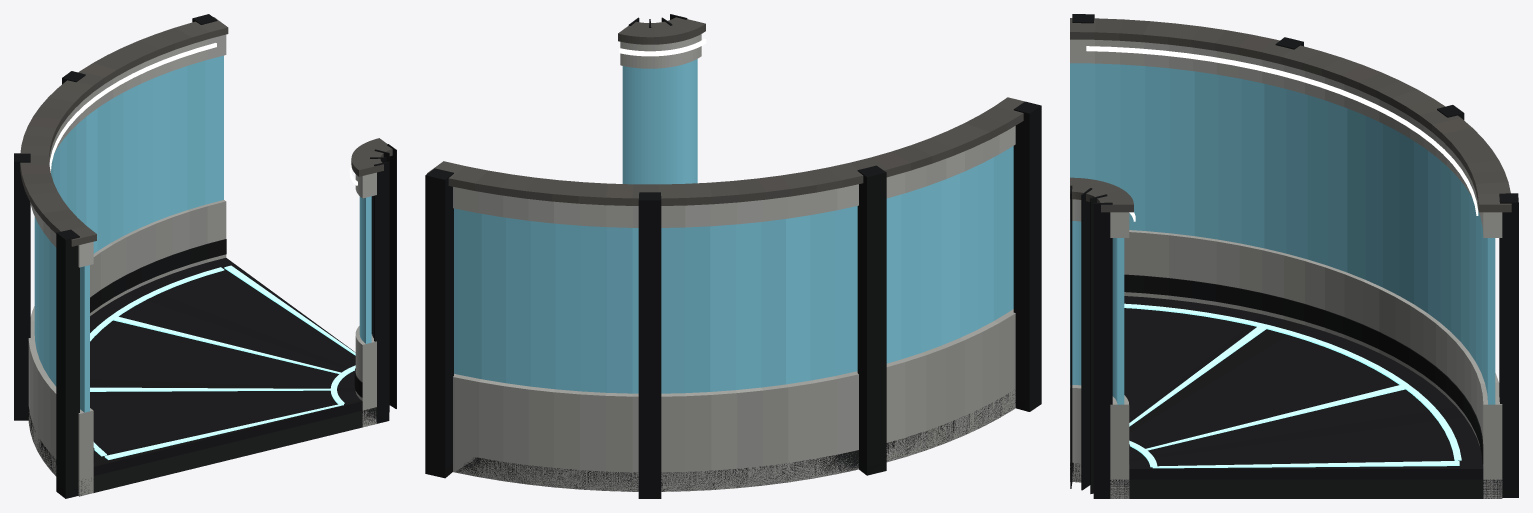
Rendered from chute_adv_h_turn_right.glb.
3 views of the same model, side by side, from view 1: azimuth 30°, elevation 25°; view 2: azimuth 150°, elevation 25°; view 3: azimuth 270°, elevation 25° (orthographic). The views are drawn at different scales.
Visible parts, largest first — view 1: Frame, Power; view 2: Frame; view 3: Frame, Power.
Boxes of the visible parts, box(x1,y1,x2,y2) form: Frame: box(14, 14, 396, 498); Power: box(90, 265, 355, 459); Frame: box(425, 14, 1041, 498); Frame: box(1070, 14, 1518, 498); Power: box(1124, 303, 1461, 468).
Size of the model in its own units: 1.9 by 1.38 by 1.9.
